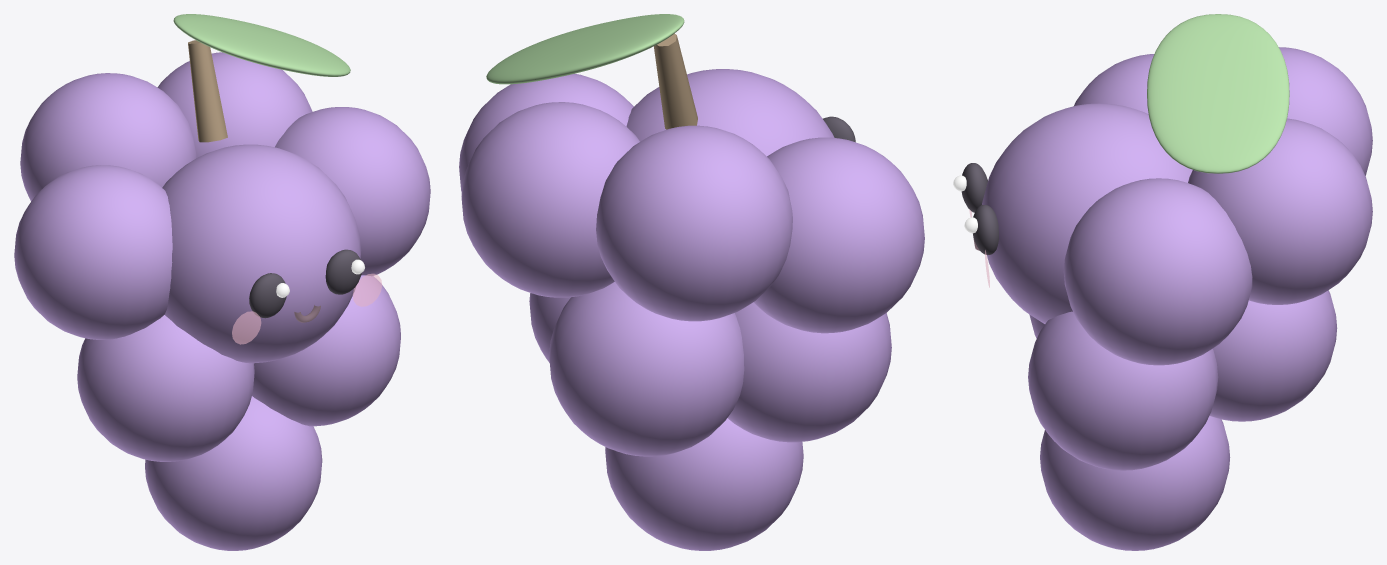
The model's file is squishy_grapes.glb.
The picture shows the model from 3 angles, left to right: view 1: azimuth 30°, elevation 25°; view 2: azimuth 150°, elevation 25°; view 3: azimuth 270°, elevation 25°; orthographic projection. The views are drawn at different scales.
Parts seen in each view (by area): view 1: Body, Part_0, Part_4, Part_7, Part_2, Part_1, Part_5, Part_3, Part_9, Part_8, Part_10, Part_13 (+2 smaller); view 2: Part_2, Part_6, Part_3, Part_0, Part_7, Part_4, Body, Part_9, Part_1, Part_8, Part_5; view 3: Part_1, Body, Part_3, Part_5, Part_9, Part_7, Part_6, Part_2, Part_0, Part_13, Part_10.
Part boxes in pixels (x1,y1,x2,y2): Body: [162, 144, 361, 363]; Part_0: [14, 165, 172, 339]; Part_4: [77, 315, 254, 461]; Part_7: [145, 396, 322, 550]; Part_2: [20, 73, 196, 201]; Part_1: [275, 107, 430, 276]; Part_5: [252, 275, 400, 426]; Part_3: [157, 52, 312, 157]; Part_9: [173, 14, 350, 76]; Part_8: [188, 40, 227, 142]; Part_10: [249, 273, 286, 318]; Part_13: [325, 249, 361, 294]; Part_2: [596, 125, 792, 321]; Part_6: [549, 282, 744, 456]; Part_3: [461, 102, 639, 297]; Part_0: [753, 137, 924, 333]; Part_7: [605, 418, 803, 550]; Part_4: [727, 302, 891, 442]; Body: [626, 69, 834, 156]; Part_9: [486, 14, 684, 84]; Part_1: [459, 73, 633, 192]; Part_8: [654, 33, 697, 129]; Part_5: [529, 293, 570, 362]; Part_1: [1063, 178, 1252, 365]; Body: [982, 103, 1192, 323]; Part_3: [1188, 118, 1372, 304]; Part_5: [1028, 311, 1218, 470]; Part_9: [1147, 14, 1289, 173]; Part_7: [1040, 416, 1230, 550]; Part_6: [1209, 290, 1337, 421]; Part_2: [1279, 47, 1372, 175]; Part_0: [1074, 54, 1154, 113]; Part_13: [973, 205, 998, 254]; Part_10: [961, 163, 987, 212].
Size of the model in its own units: 2.04 by 2.42 by 1.77.
